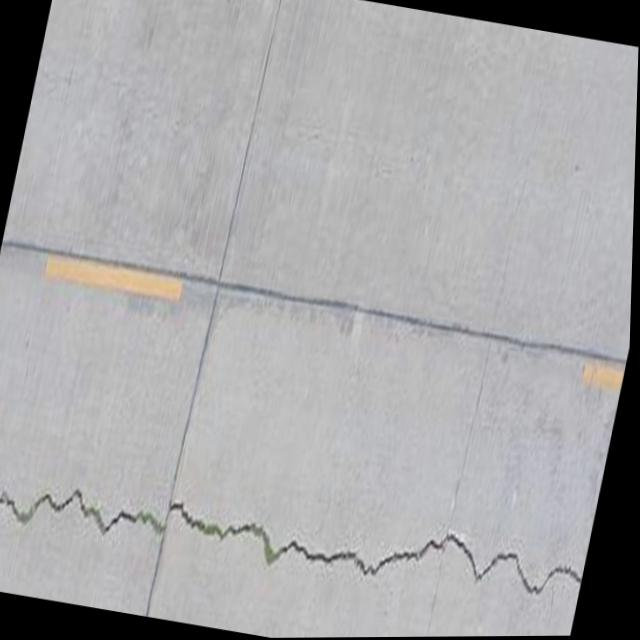Crack: (0, 428, 595, 637)
